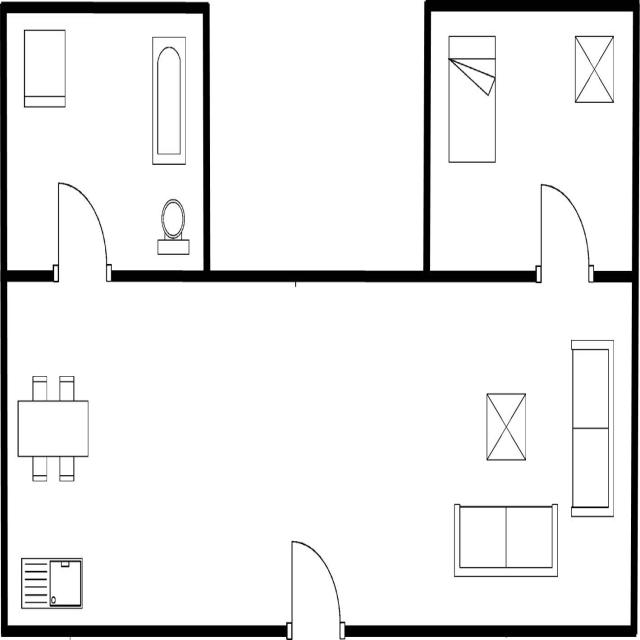bed: (444, 30, 499, 167)
coffee_table: (482, 387, 529, 466), (571, 29, 617, 108)
dining_table: (14, 371, 92, 485)
large_sink: (154, 194, 193, 260)
large_sofa: (450, 497, 560, 582), (568, 335, 616, 520)
sink: (18, 552, 86, 612)
small_sofa: (19, 24, 68, 116)
tub: (150, 30, 188, 170)
